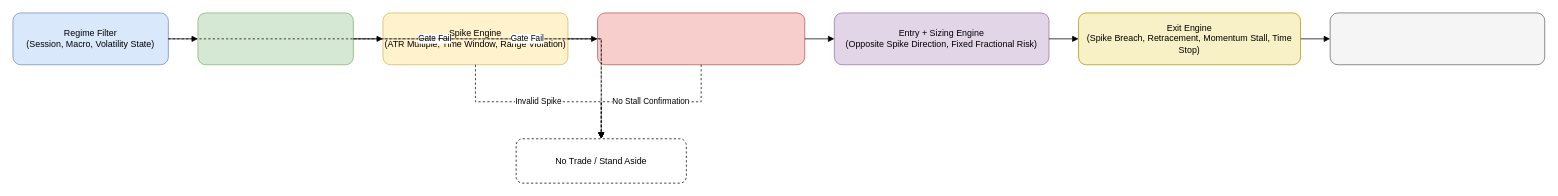
Image size: 1558x196. Some labels were removed from this diagram. The centre of each missing label's shape, as x and y in pixels:
"Monitoring and Audit (Regime, Spike, Spread, Exit Cause, Version)" goes at (1437,38).
"Risk Gate (Spread, Liquidity, Slippage)" goes at (275,38).
"Stall Confirmation Engine (Failure to Extend, Compression/Opposing Close)" goes at (701,38).
